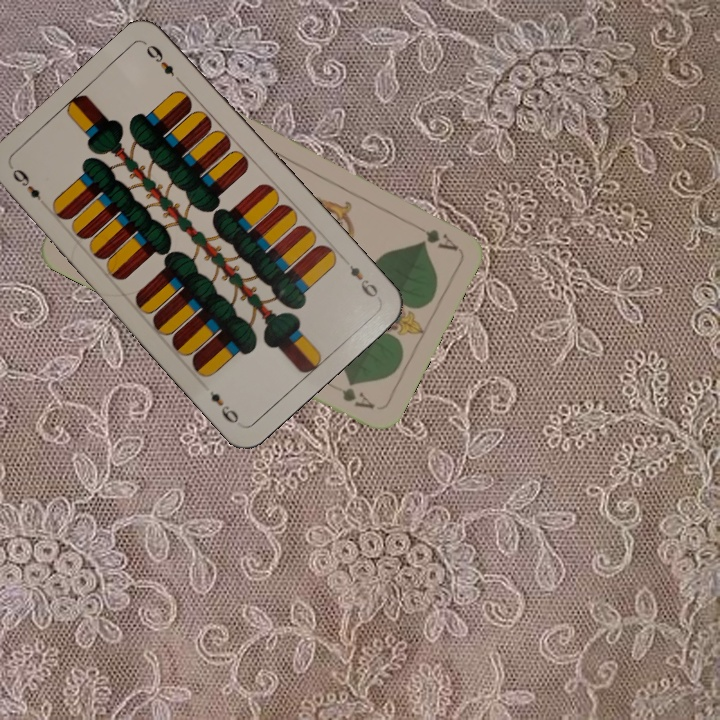E9: (345, 260, 381, 301), (8, 165, 44, 204)
GA: (405, 217, 460, 254)
